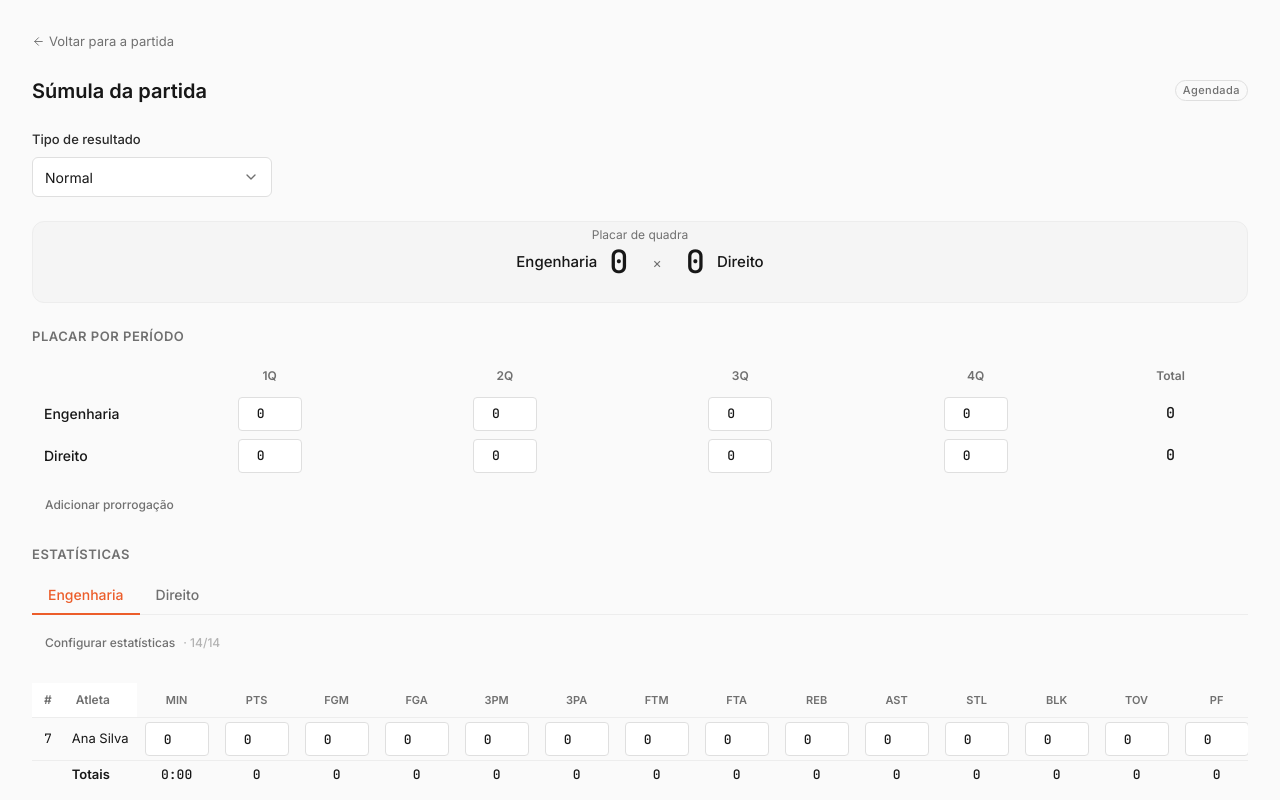
Test case: MatchSumulaPage — FORFEIT › requires an offending participant before FORFEIT confirmation
expect the heading "Súmula da partida" is shown: met, box top-left (32, 76), bottom-right (207, 106)
Click the button named "Tipo de resultado": (152, 177) top-left (32, 157), bottom-right (272, 197)
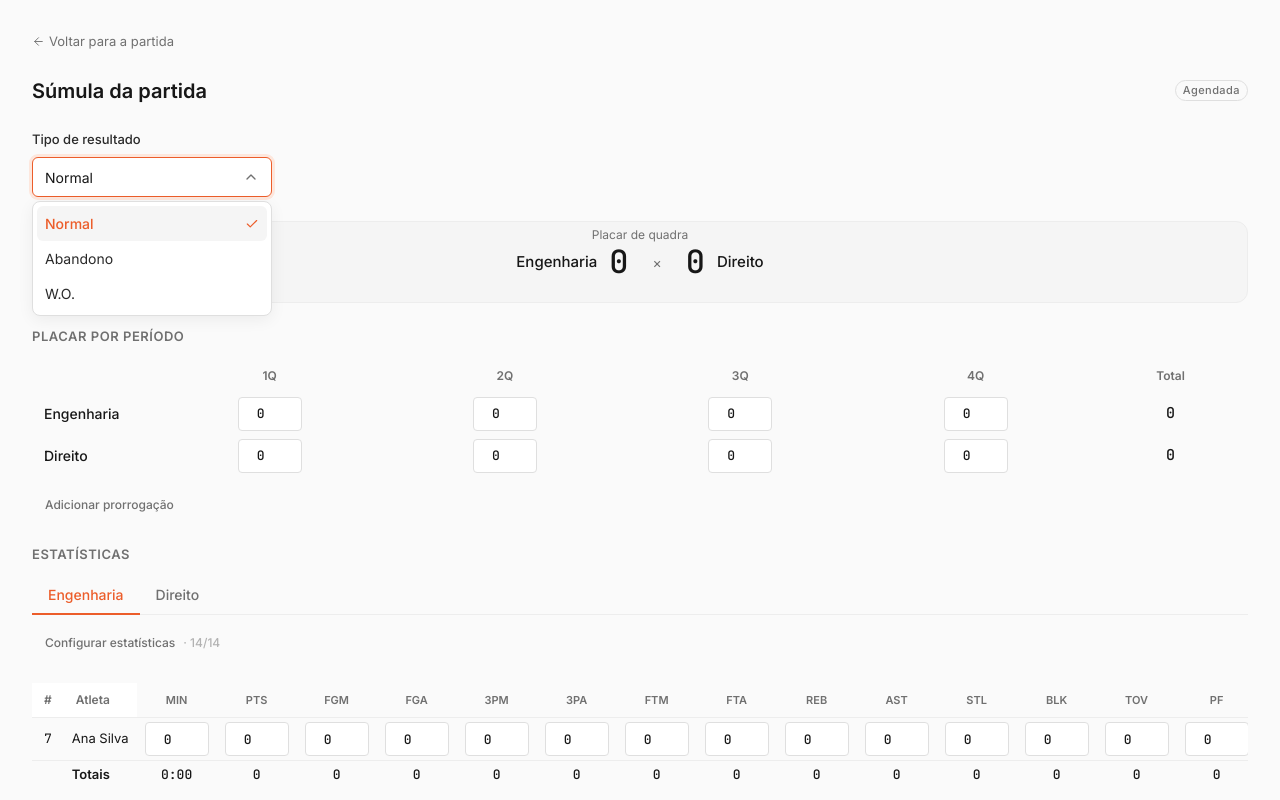
Click the option "W.O.": (60, 294) top-left (45, 285), bottom-right (75, 302)
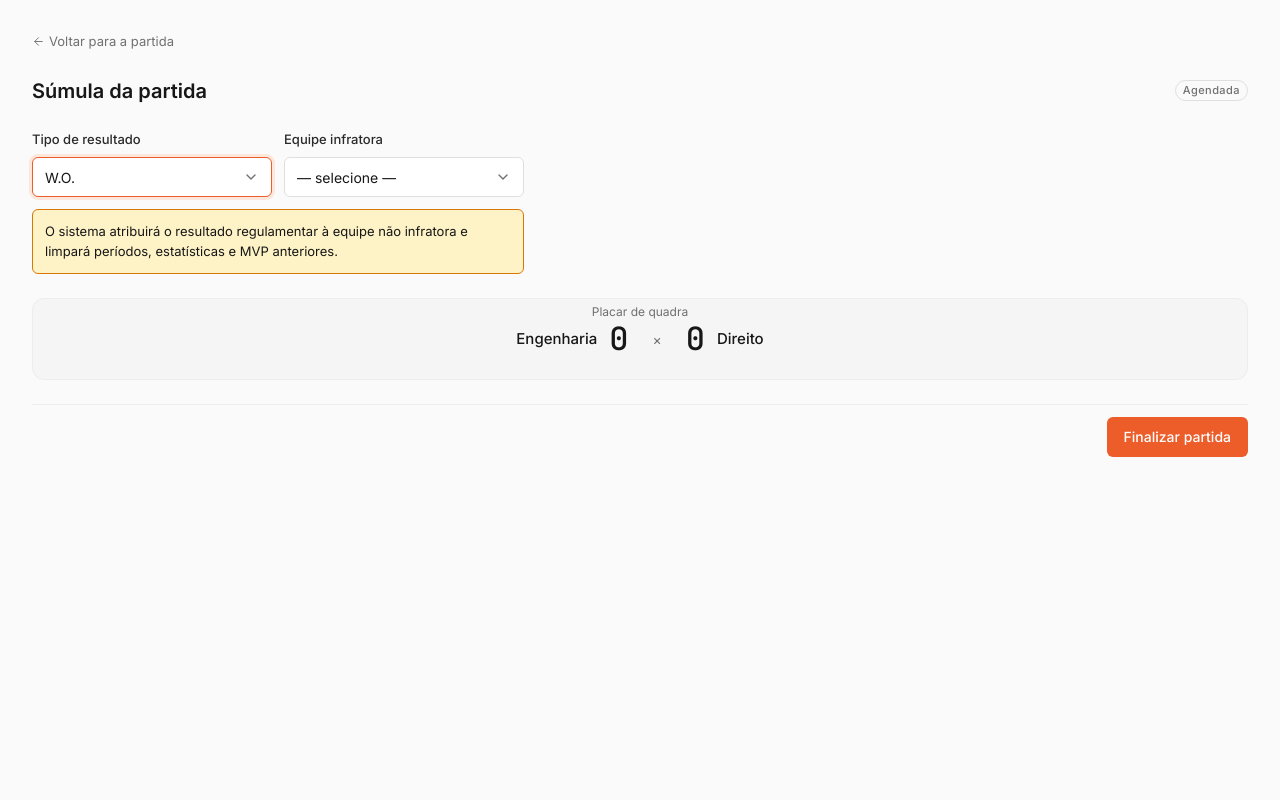
Click the button "Finalizar partida": (1177, 437) top-left (1107, 417), bottom-right (1248, 457)
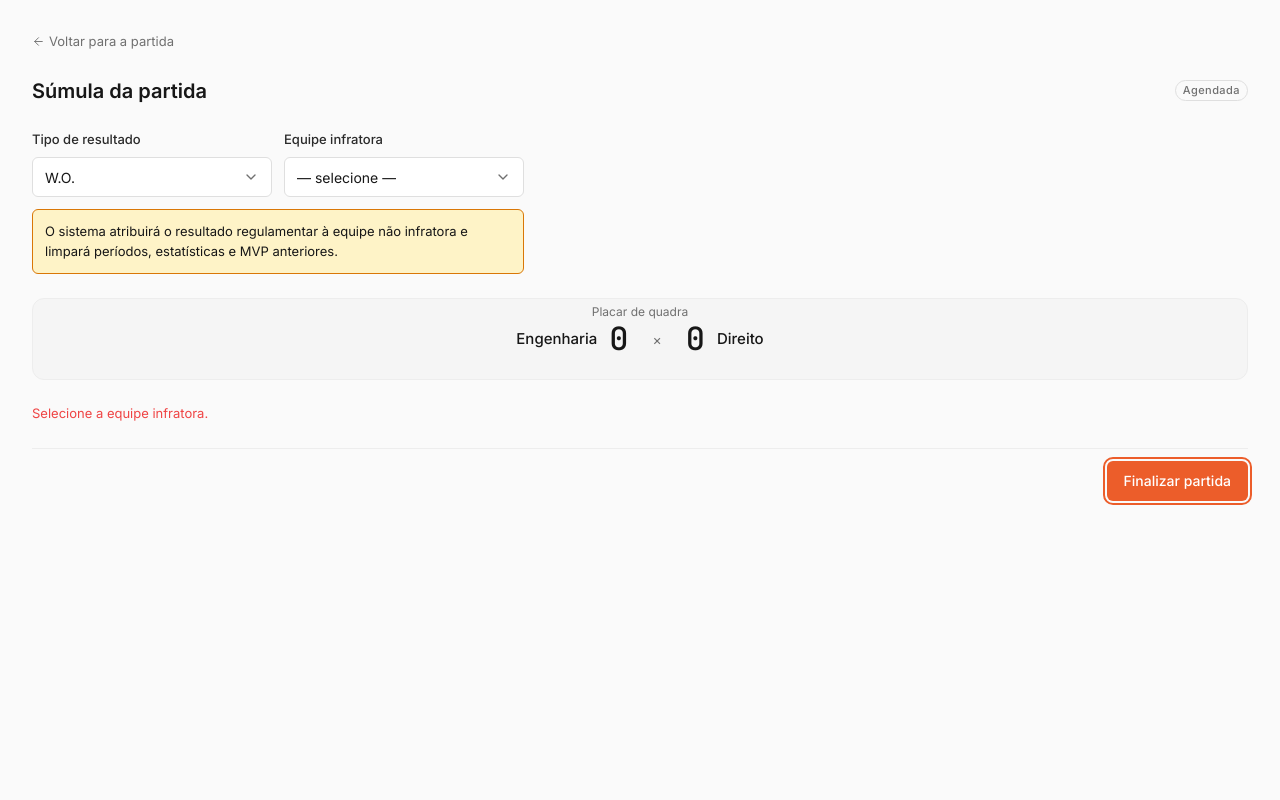
expect the message reads "Selecione a equipe infratora.": met, box top-left (32, 405), bottom-right (208, 421)
